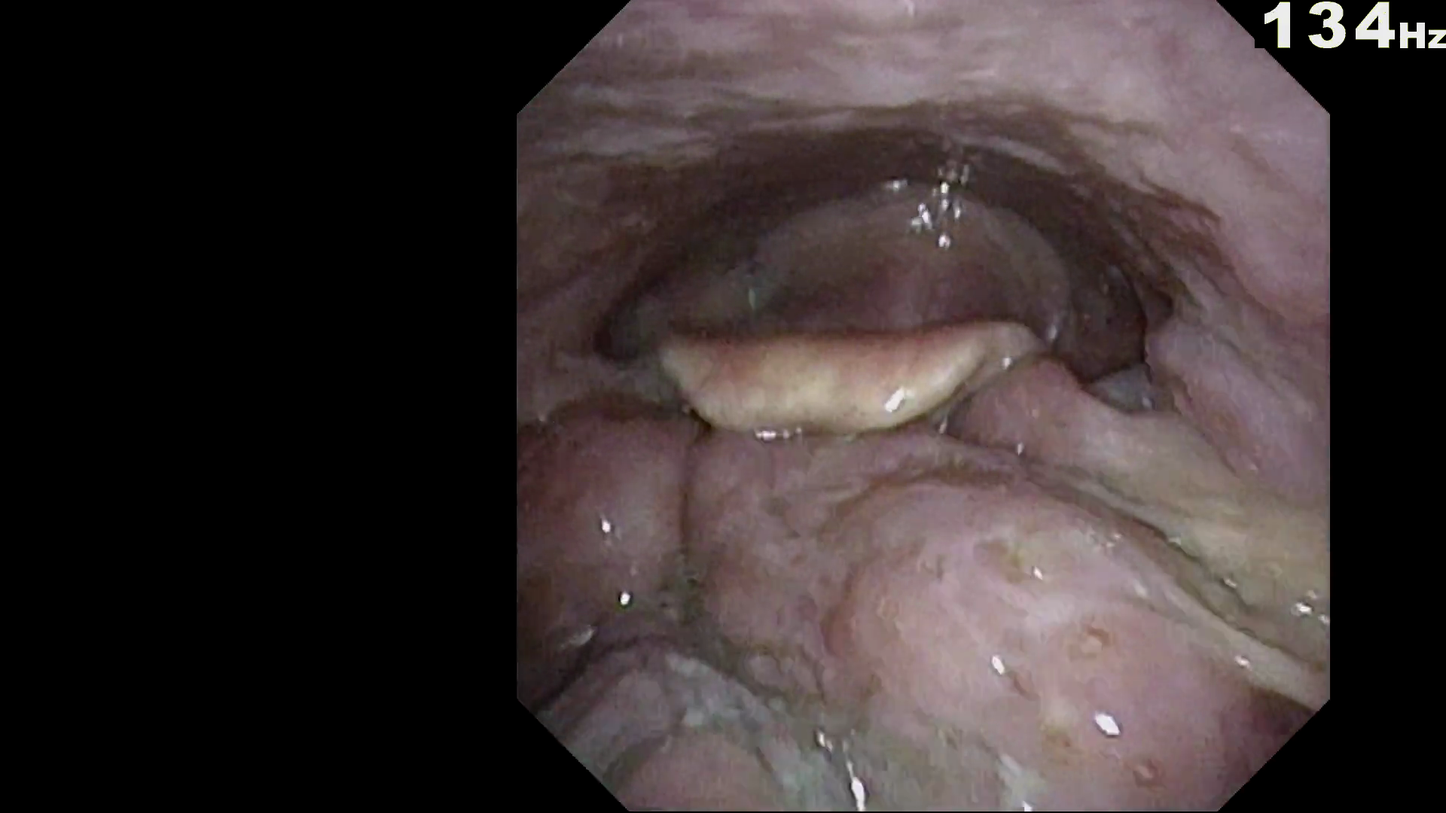epiglottis: (627, 327, 1136, 495)
